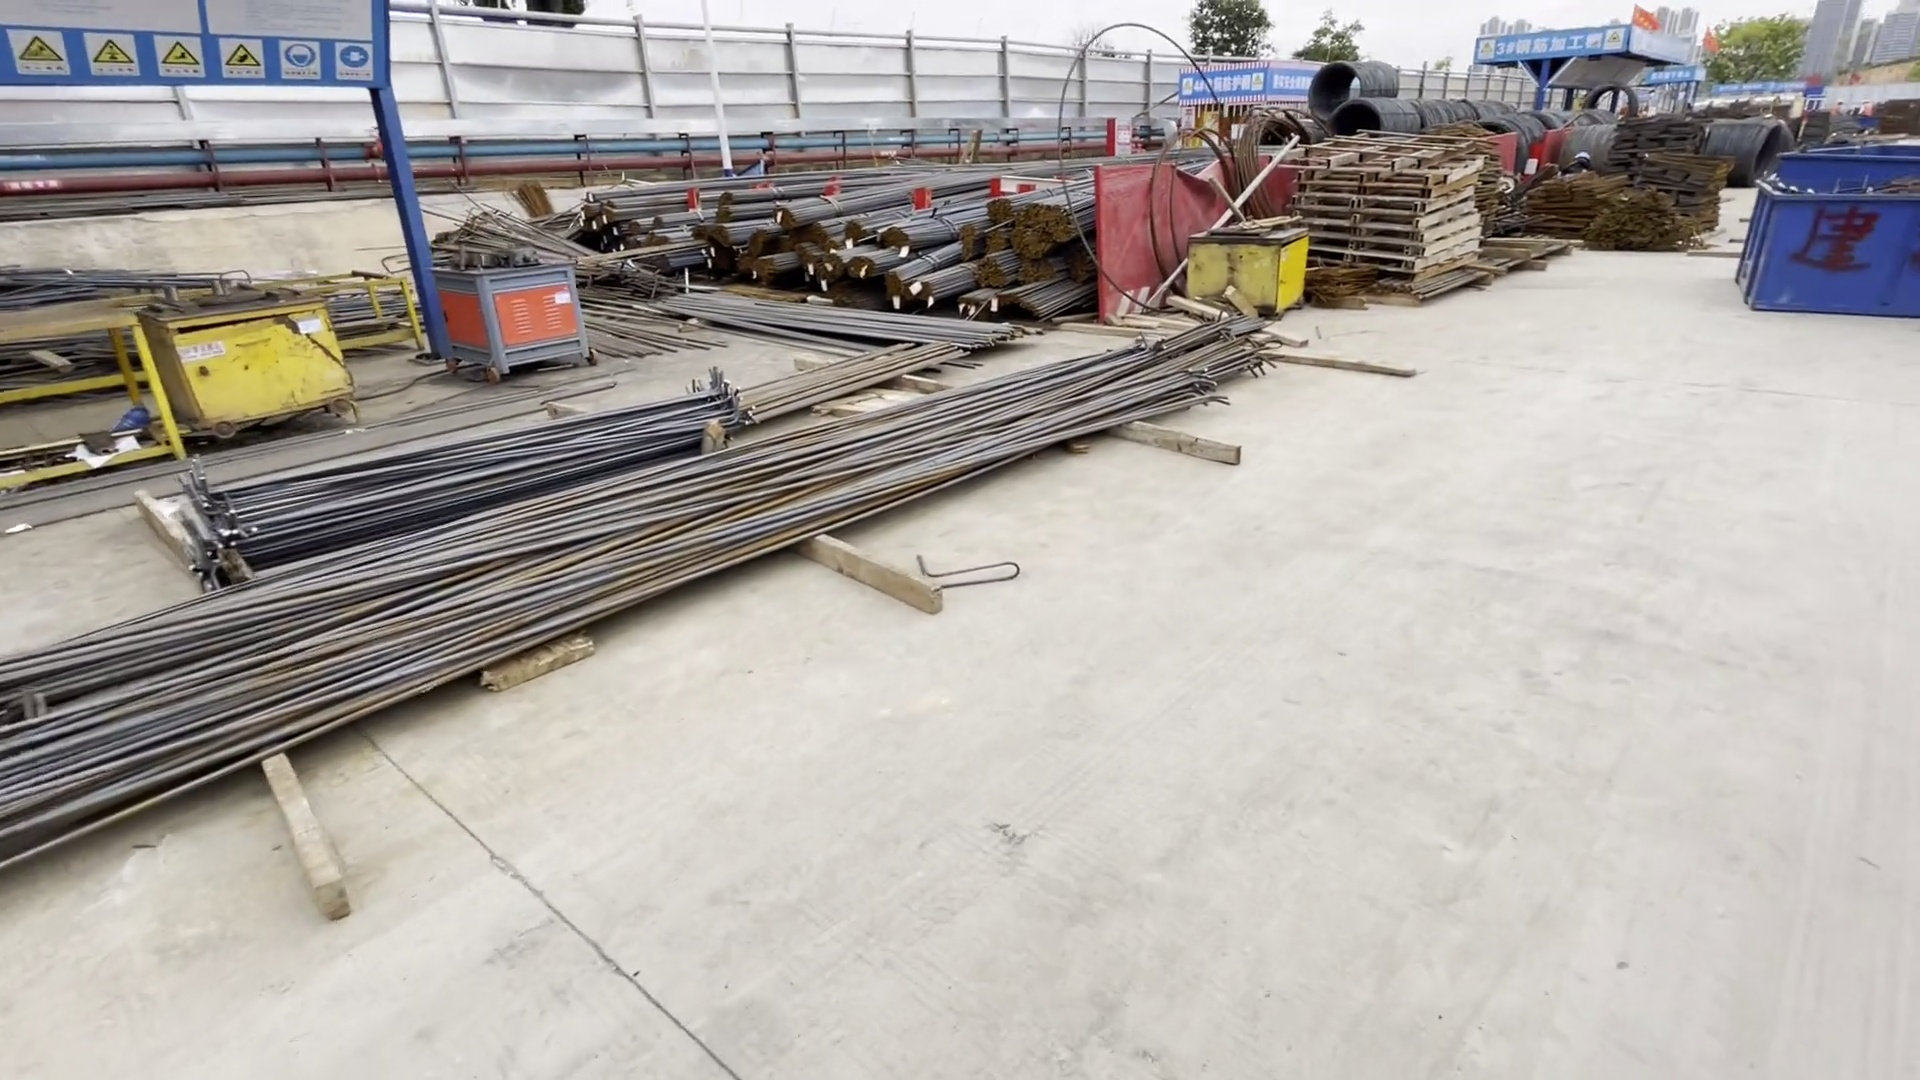hopper: (1726, 145, 1920, 328)
rebar: (1, 303, 1298, 878), (516, 156, 1101, 335)
slogan: (1, 21, 375, 80)
